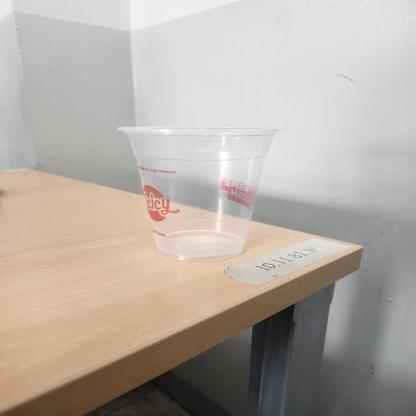Plastic Cup: (116, 124, 288, 262)
